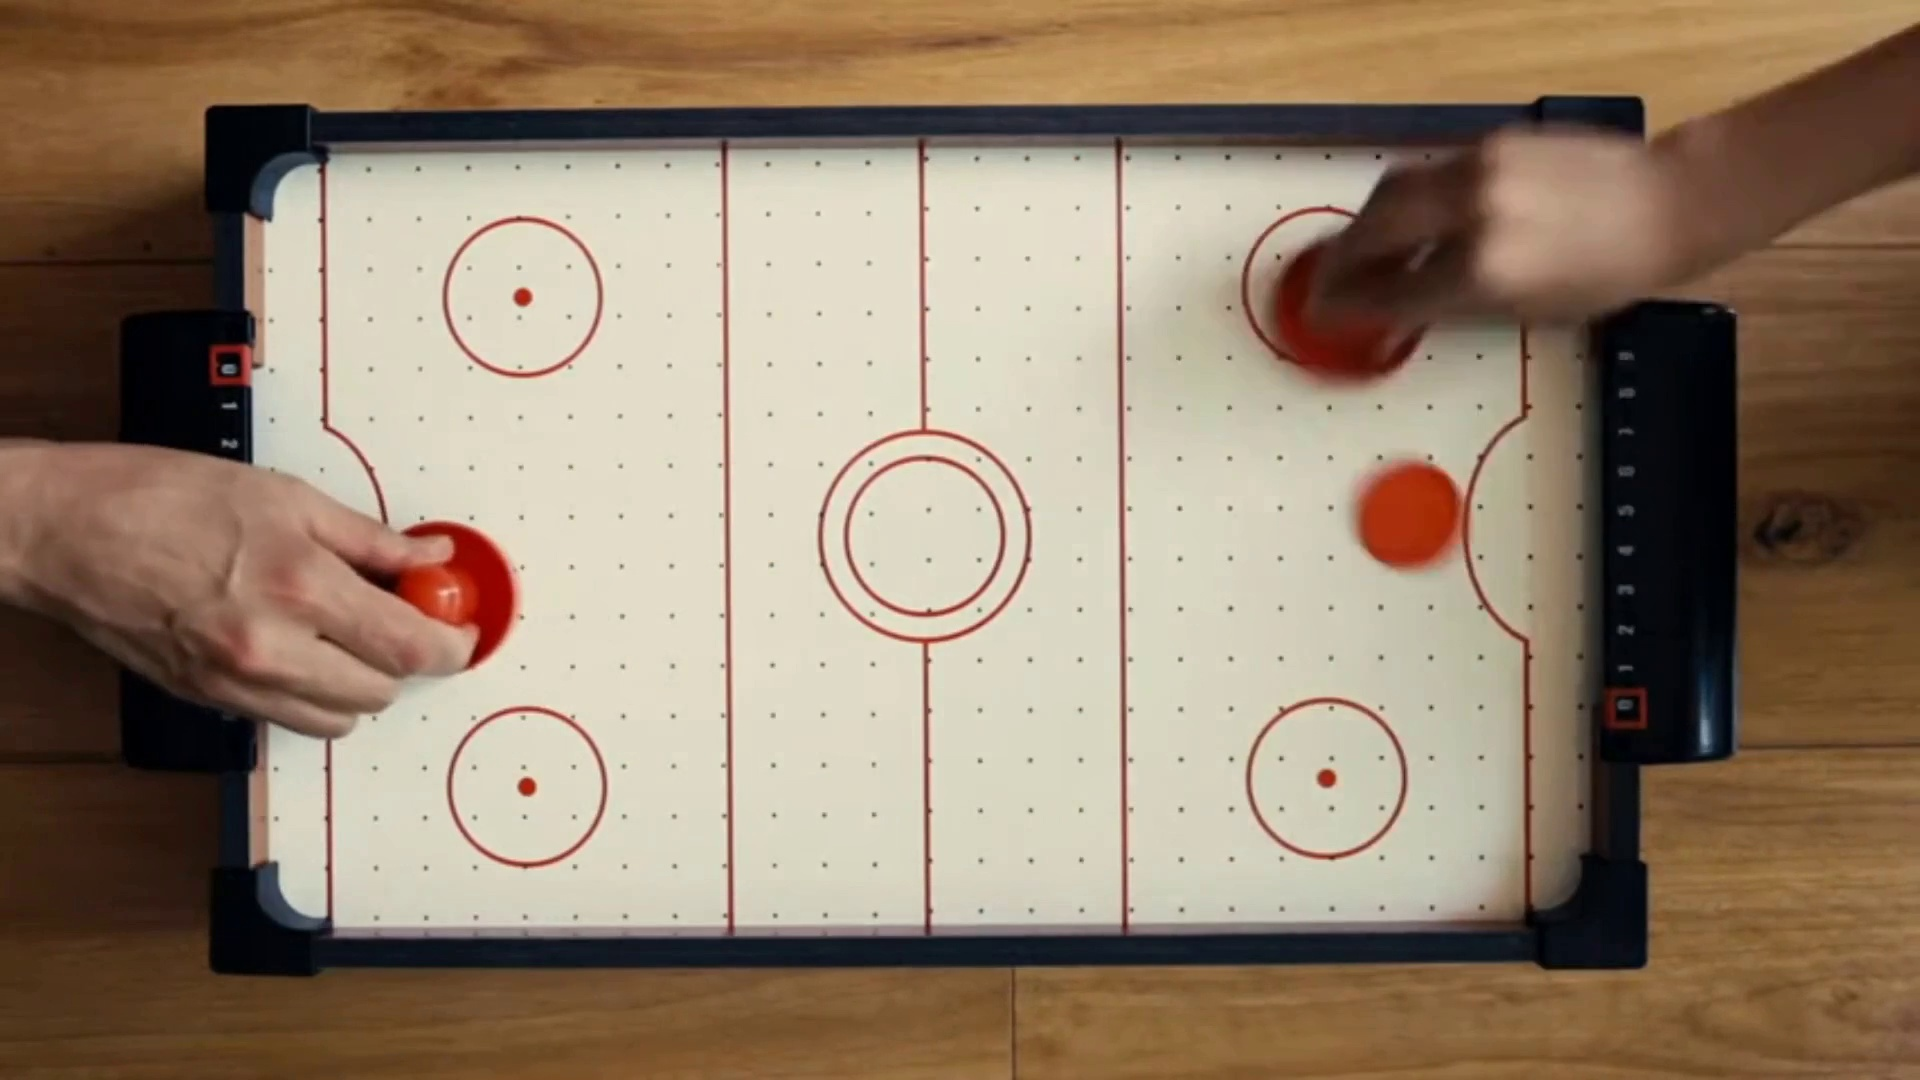player1: (366, 524, 518, 679)
player2: (1273, 235, 1425, 390)
puck: (1348, 456, 1459, 572)
table: (255, 144, 1586, 926)
